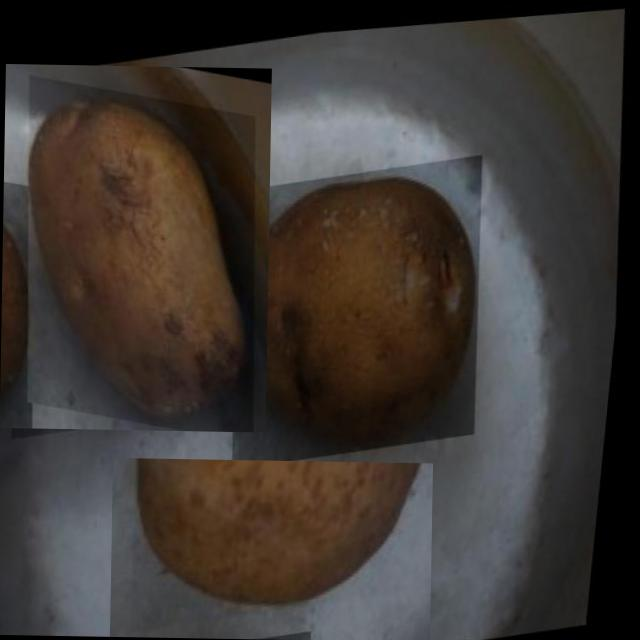Potato: (0, 62, 270, 431), (218, 144, 503, 468), (108, 456, 432, 640)
